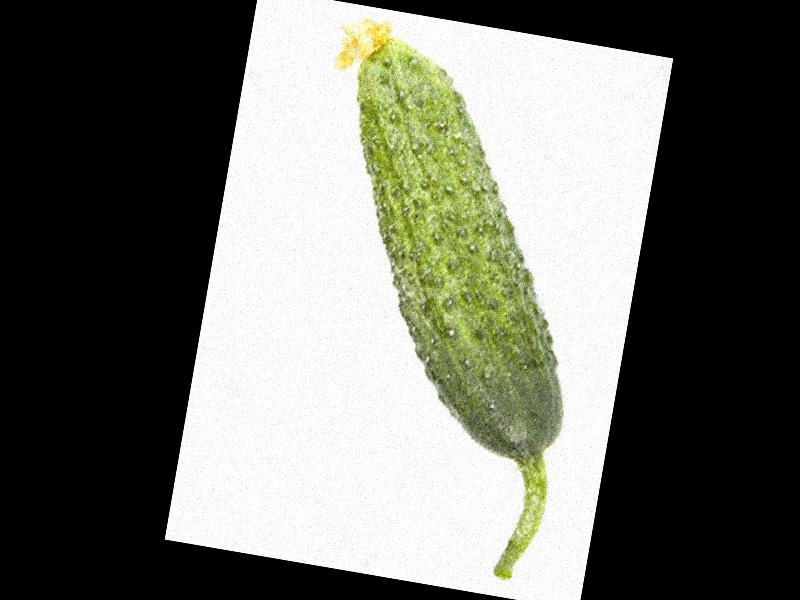Cucumber: (250, 11, 624, 580)
